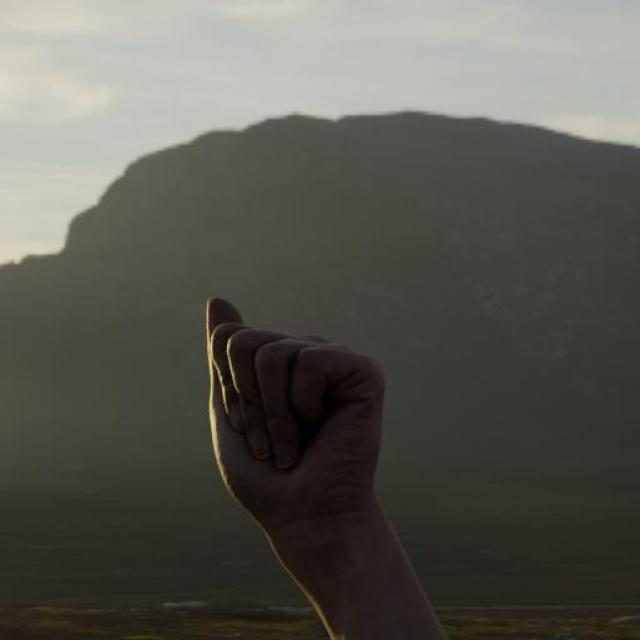A: (205, 295, 389, 526)
